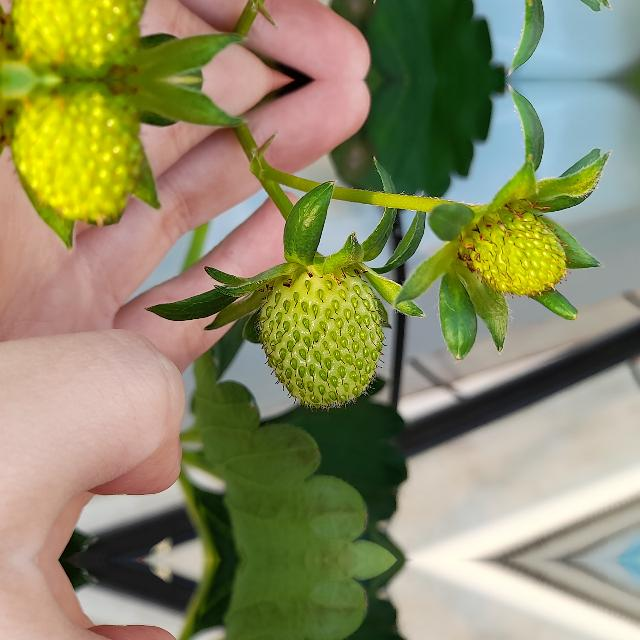Health_25: (7, 80, 149, 220), (252, 266, 388, 412), (7, 0, 149, 80), (463, 200, 567, 296)
